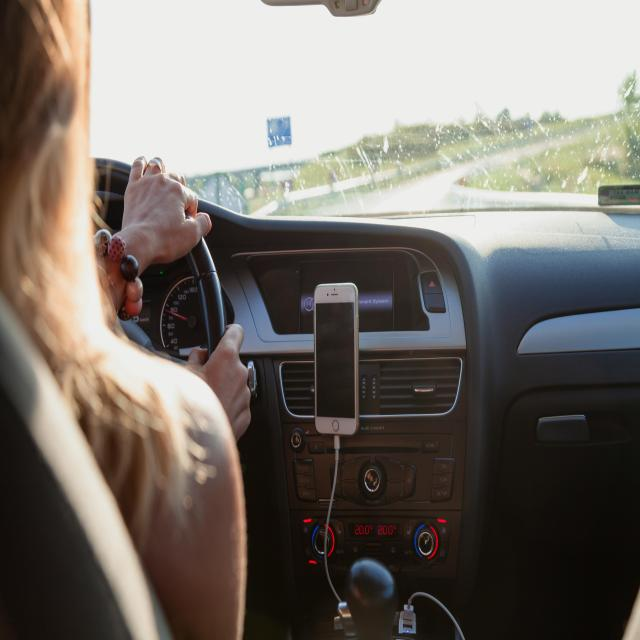sit: (0, 0, 270, 638)
